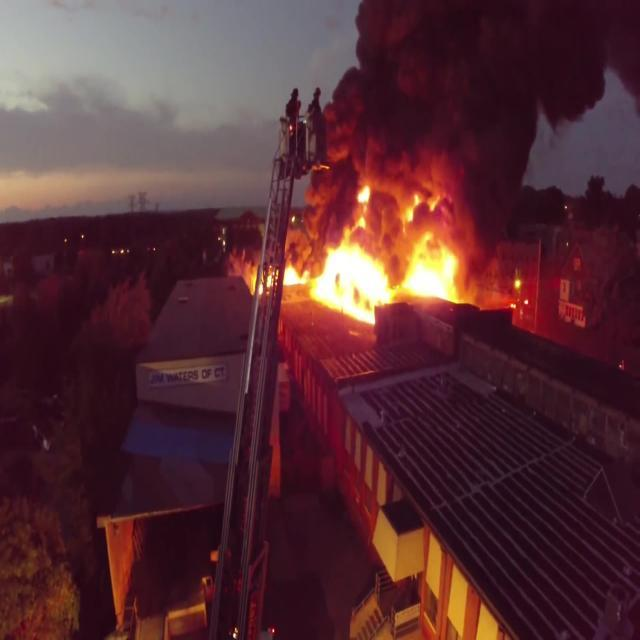Fire: (324, 249, 376, 309), (412, 240, 454, 302), (407, 186, 424, 229), (284, 262, 302, 290), (355, 182, 368, 202)
Smoke: (340, 0, 640, 158)
